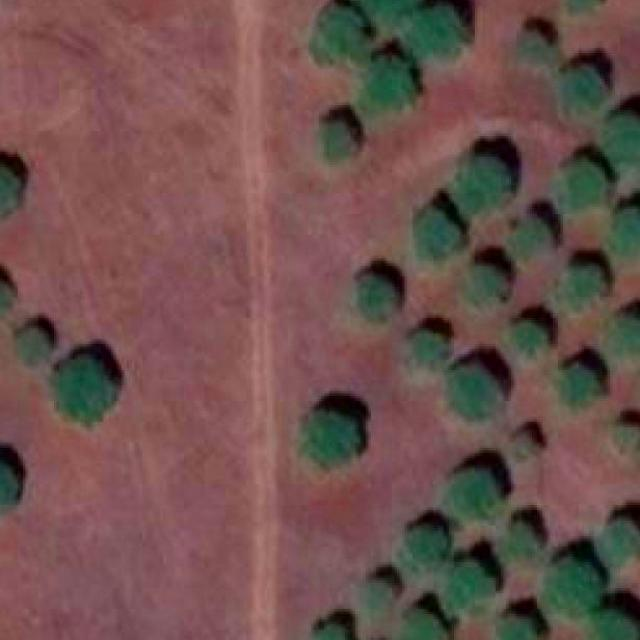Tree: (52, 358, 116, 428), (357, 56, 420, 114), (300, 408, 356, 470), (544, 560, 600, 621), (459, 155, 516, 211), (406, 6, 468, 57), (446, 368, 504, 417), (554, 66, 604, 120), (559, 165, 608, 216), (316, 12, 364, 64), (446, 562, 494, 612), (392, 520, 438, 570), (446, 472, 496, 517), (418, 204, 461, 256), (356, 266, 397, 317), (560, 269, 608, 312), (599, 518, 638, 570), (465, 260, 506, 308), (608, 112, 640, 170), (606, 310, 640, 363), (514, 219, 555, 262), (402, 603, 449, 640), (609, 206, 640, 262), (512, 27, 553, 69), (13, 326, 49, 371), (406, 331, 444, 371), (560, 368, 596, 410), (354, 0, 412, 26), (360, 583, 399, 621), (511, 321, 548, 361), (318, 124, 355, 163), (593, 609, 638, 640), (500, 520, 539, 555), (498, 609, 539, 640), (609, 422, 640, 460), (0, 451, 18, 515), (0, 164, 16, 225), (514, 427, 540, 459), (316, 621, 357, 640), (0, 276, 18, 317), (559, 0, 602, 15)
